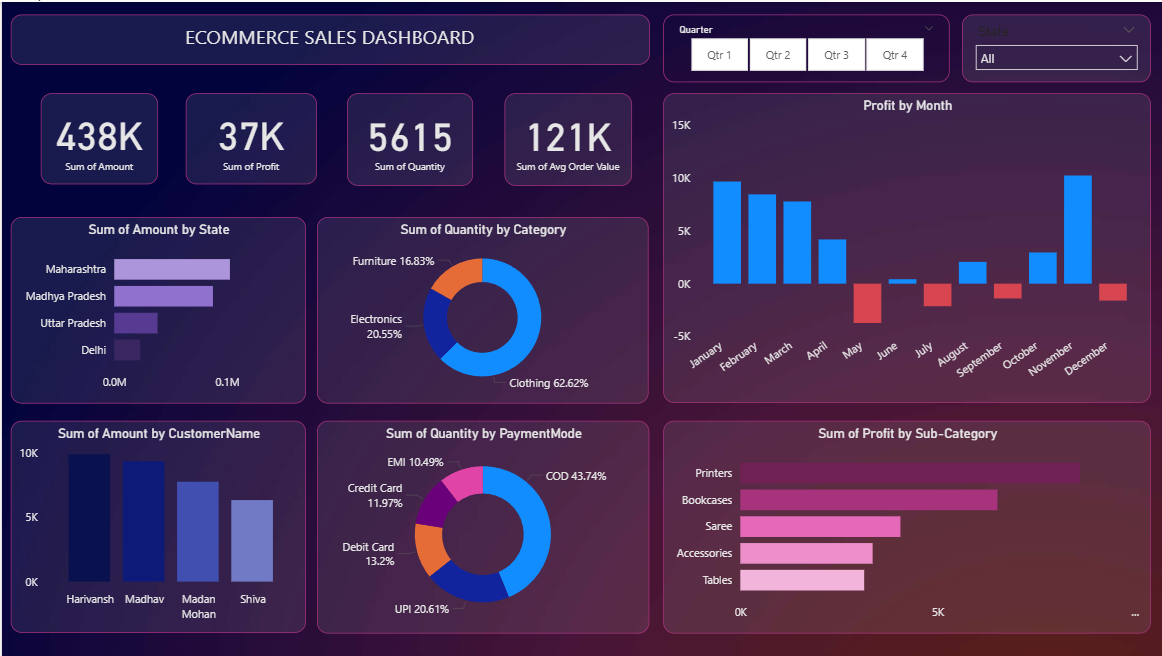

The page's visual inventory and layout, read from the dashboard file:
{"tool":"powerbi","page":{"name":"Page 1","canvas":[1280,720],"ordinal":0},"visuals":[{"type":"textbox","box":[9.6,13.7,701.2,54.9],"z":0},{"type":"columnChart","title":"Profit by Month","fields":{"Category":["Orders.Order Date.Variation.Date Hierarchy.Month"],"Y":["Sum(Details.Profit)"]},"box":[725.9,100.2,535.2,340.3],"z":1000},{"type":"barChart","fields":{"Category":["Details.Sub-Category"],"Y":["Sum(Details.Profit)"]},"box":[725.9,459.7,535.2,233.3],"z":2000},{"type":"donutChart","fields":{"Y":["Sum(Details.Quantity)"],"Series":["Details.Category"]},"box":[345.8,236,363.6,204.5],"z":3000},{"type":"donutChart","fields":{"Y":["Sum(Details.Quantity)"],"Category":["Details.PaymentMode"]},"box":[345.8,459.7,365,233.3],"z":4000},{"type":"card","fields":{"Values":["Sum(Details.Amount)"]},"box":[42.5,100.2,129,100.2],"z":5000},{"type":"card","fields":{"Values":["Sum(Details.Quantity)"]},"box":[378.7,100.2,138.6,101.5],"z":6000},{"type":"card","fields":{"Values":["Sum(Details.Profit)"]},"box":[201.7,100.2,144.1,100.2],"z":7000},{"type":"card","fields":{"Values":["Sum(Details.Avg Order Value)"]},"box":[551.6,100.2,140,101.5],"z":8000},{"type":"barChart","fields":{"Category":["Orders.State"],"Y":["Sum(Details.Amount)"]},"box":[9.6,236,323.8,204.5],"z":9000},{"type":"columnChart","fields":{"Category":["Orders.CustomerName"],"Y":["Sum(Details.Amount)"]},"box":[10,460,324,233],"z":10000},{"type":"slicer","fields":{"Values":["Orders.Order Date.Variation.Date Hierarchy.Quarter"]},"box":[725.9,13.7,314.2,74.1],"z":11000},{"type":"slicer","fields":{"Values":["Orders.State"]},"box":[1053.9,13.7,207.2,74.1],"z":12000}]}

Visuals, with their boxes in screenshot pixels (x1, y1, x2, y2), scaled from the page's 1280x720 canvas onto the 1162x656 screenshot:
textbox: l=9, t=12, r=645, b=63
"Profit by Month" columnChart: l=659, t=91, r=1145, b=401
barChart - Details.Sub-Category x Sum(Details.Profit): l=659, t=419, r=1145, b=631
donutChart - Sum(Details.Quantity) x Details.Category: l=314, t=215, r=644, b=401
donutChart - Sum(Details.Quantity) x Details.PaymentMode: l=314, t=419, r=645, b=631
card - Sum(Details.Amount): l=39, t=91, r=156, b=183
card - Sum(Details.Quantity): l=344, t=91, r=470, b=184
card - Sum(Details.Profit): l=183, t=91, r=314, b=183
card - Sum(Details.Avg Order Value): l=501, t=91, r=628, b=184
barChart - Orders.State x Sum(Details.Amount): l=9, t=215, r=303, b=401
columnChart - Orders.CustomerName x Sum(Details.Amount): l=9, t=419, r=303, b=631
slicer - Orders.Order Date.Variation.Date Hierarchy.Quarter: l=659, t=12, r=944, b=80
slicer - Orders.State: l=957, t=12, r=1145, b=80
